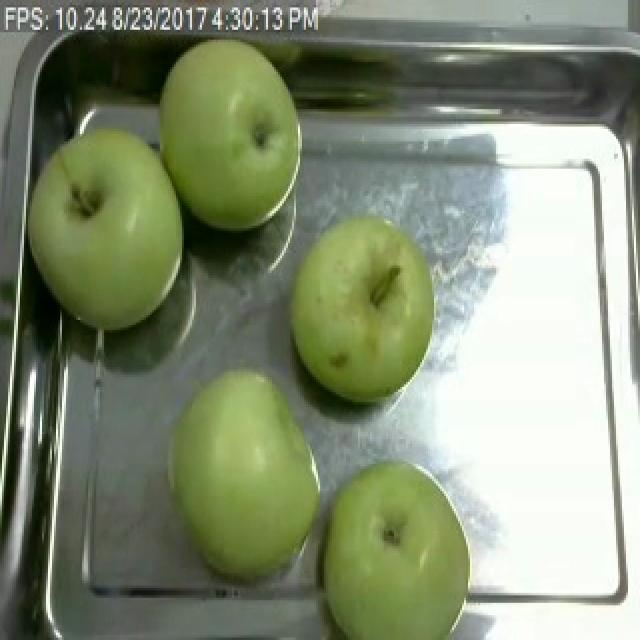50-_ripeness: (23, 122, 192, 331), (167, 362, 318, 575), (276, 210, 456, 388), (326, 460, 480, 638), (159, 46, 305, 229)
